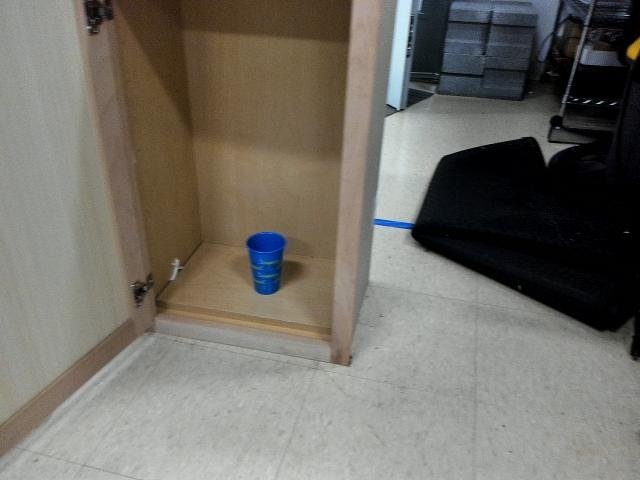water_cup: (239, 224, 292, 301)
